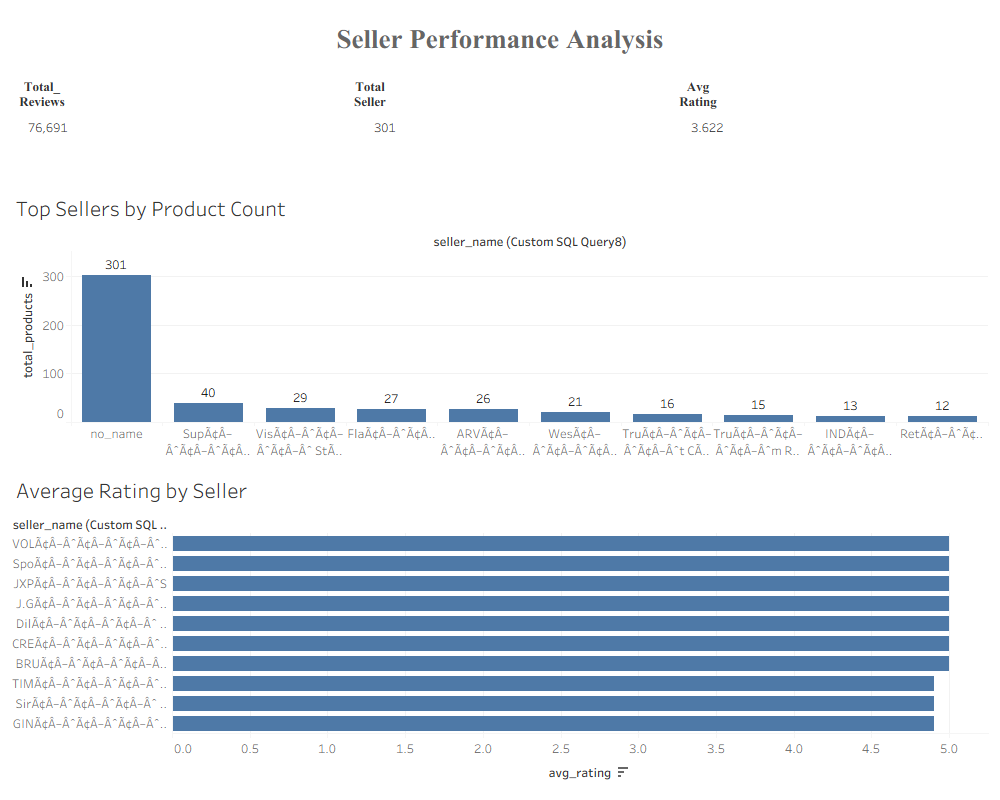

The dashboard page shown, as its layout file describes it:
{"tool":"tableau","page":{"name":"Seller Performance Analysis","canvas":[1000,800],"ordinal":4},"visuals":[{"type":"text","box":[8,8,984,61]},{"type":"worksheet","title":"Total_Reviews","mark":"Automatic","box":[8,69,328,115]},{"type":"worksheet","title":"Total_seller","mark":"Automatic","box":[336,69,328,115]},{"type":"worksheet","title":"Avg_rating","mark":"Automatic","box":[664,69,328,115]},{"type":"worksheet","title":"Top Sellers by Product Count","mark":"Bar","rows":["total_products"],"cols":["seller_name (Custom SQL Query8)"],"box":[8,184,984,282]},{"type":"worksheet","title":"Average Rating by Seller","mark":"Automatic","rows":["seller_name (Custom SQL Query9)"],"cols":["avg_rating"],"box":[8,466,984,326]}]}

Visuals, with their boxes in screenshot pixels (x1, y1, x2, y2), scaled from the page's 1000x800 canvas onto the 1000x800 screenshot:
text: [x1=8, y1=8, x2=992, y2=69]
"Total_Reviews" worksheet: [x1=8, y1=69, x2=336, y2=184]
"Total_seller" worksheet: [x1=336, y1=69, x2=664, y2=184]
"Avg_rating" worksheet: [x1=664, y1=69, x2=992, y2=184]
"Top Sellers by Product Count" worksheet (Bar marks): [x1=8, y1=184, x2=992, y2=466]
"Average Rating by Seller" worksheet: [x1=8, y1=466, x2=992, y2=792]
